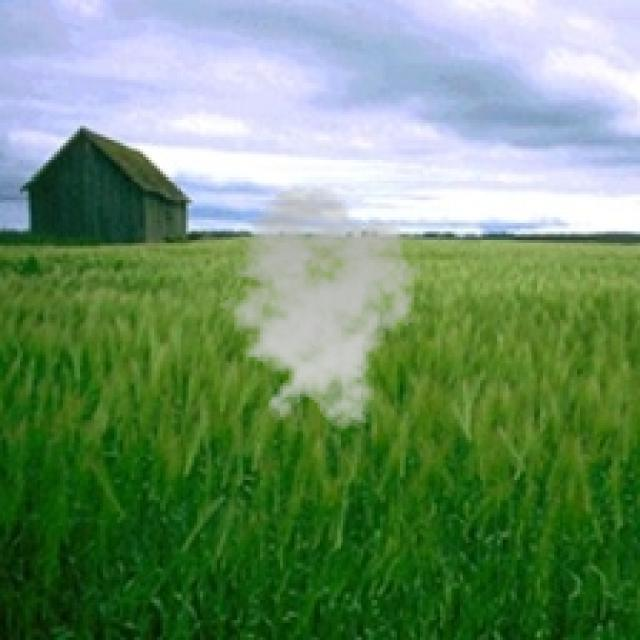Smoke: (208, 186, 428, 431)
